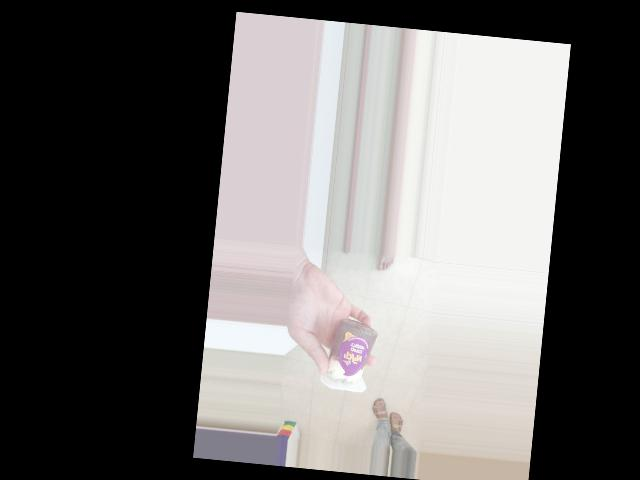milky: (323, 306, 374, 394)
